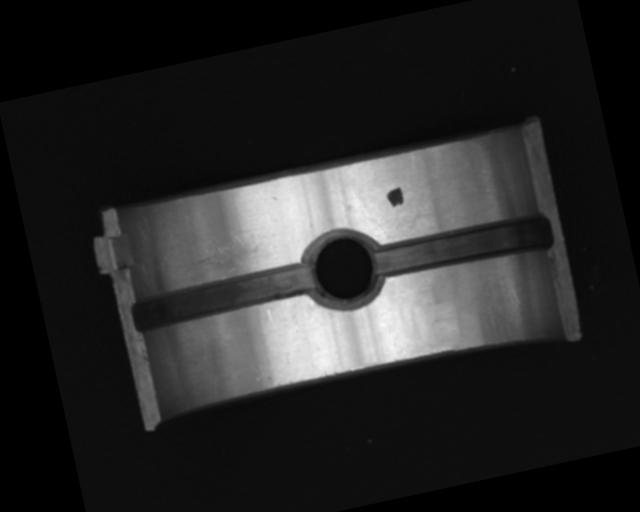blot: (385, 186, 405, 209)
gap: (127, 258, 320, 334), (373, 208, 555, 282)
hole: (300, 223, 389, 314)
nick: (265, 306, 291, 367)
scratch: (161, 228, 270, 289)
